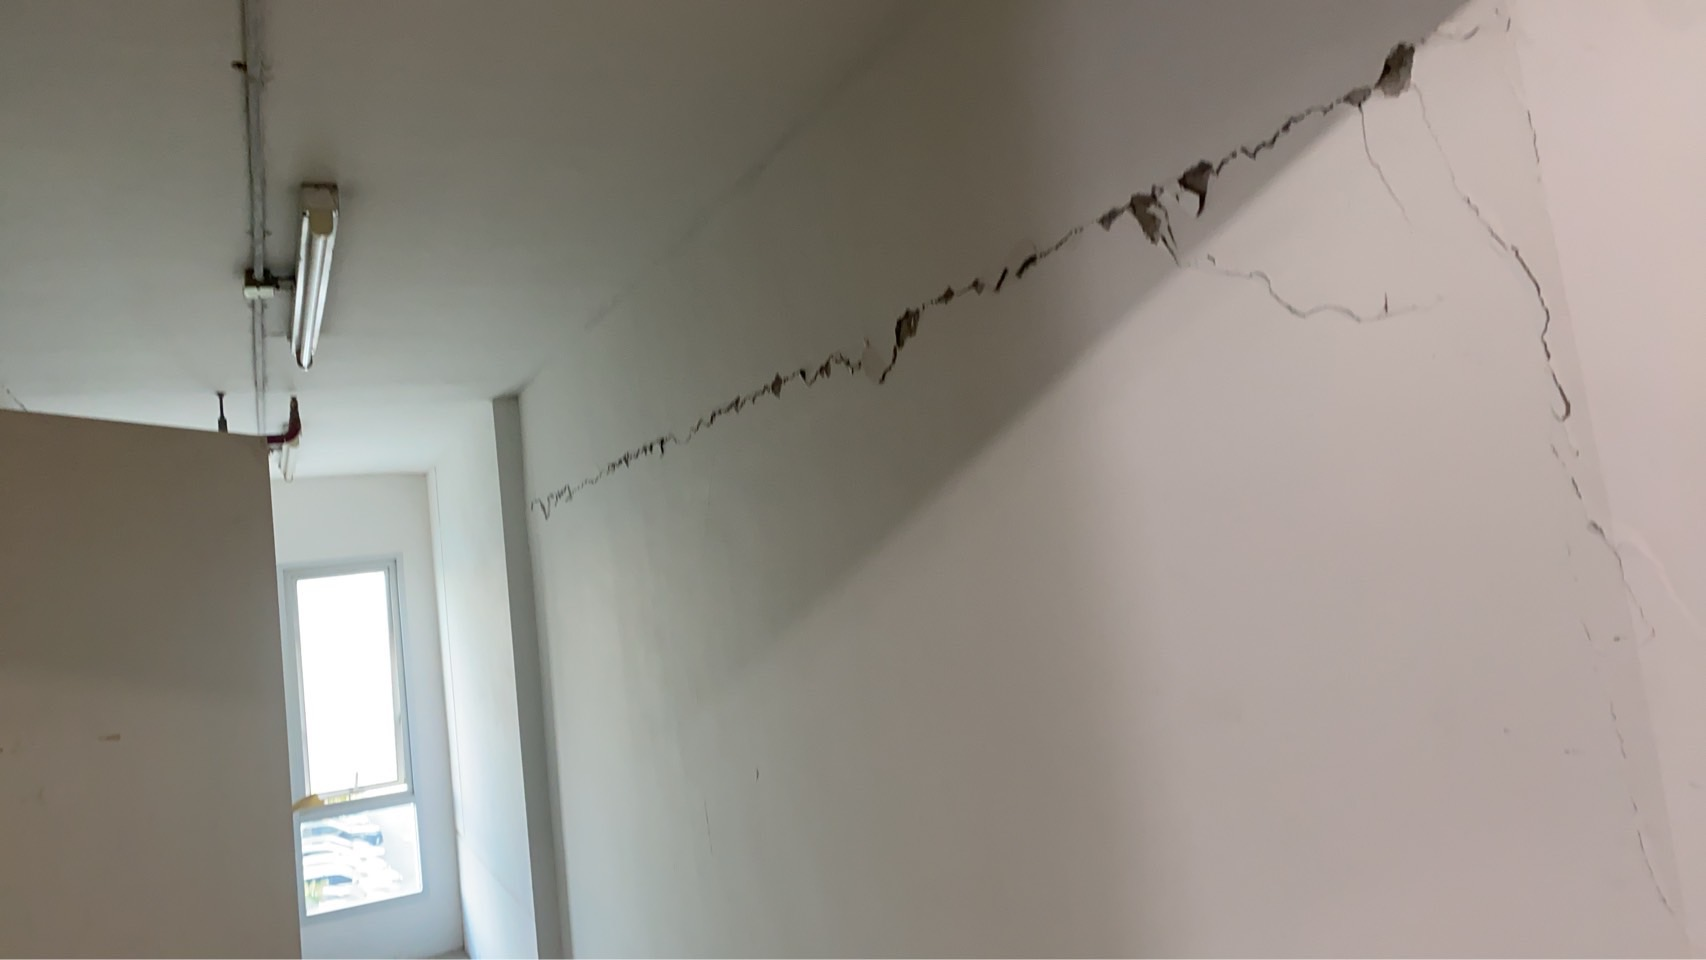Medium: (1141, 45, 1613, 418)
